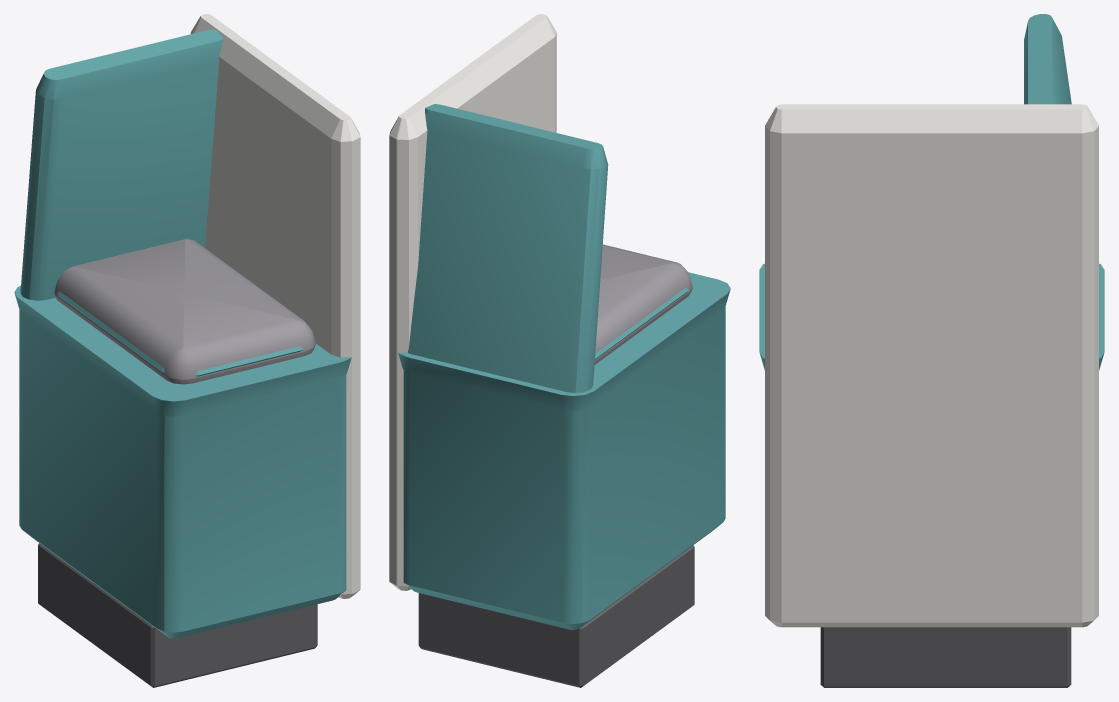
File: fast-food-and-drive-thru-moulded-bench-end-722c05ce__16179.glb
The picture shows the model from 3 angles, left to right: view 1: azimuth 30°, elevation 25°; view 2: azimuth 150°, elevation 25°; view 3: azimuth 270°, elevation 25°; orthographic projection. The views are drawn at different scales.
Parts seen in each view (by area): view 1: moulded-bench-end; view 2: moulded-bench-end; view 3: moulded-bench-end.
Part boxes in pixels (left/top/right/bottom): moulded-bench-end: left=14, top=14, right=360, bottom=687; moulded-bench-end: left=389, top=14, right=730, bottom=687; moulded-bench-end: left=759, top=14, right=1104, bottom=687.
Size of the model in its own units: 0.367 by 0.93 by 0.496.
